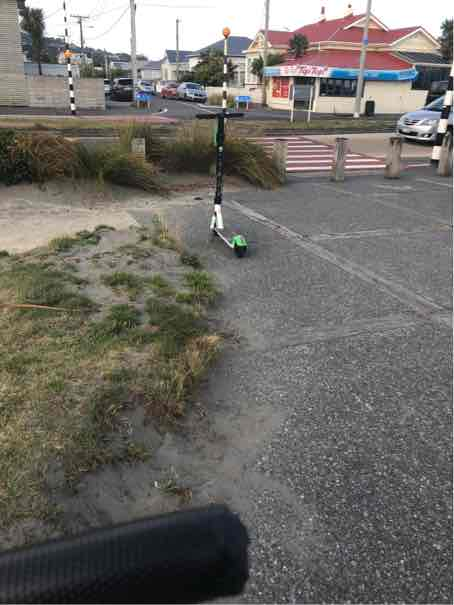scooter: (185, 101, 261, 246)
